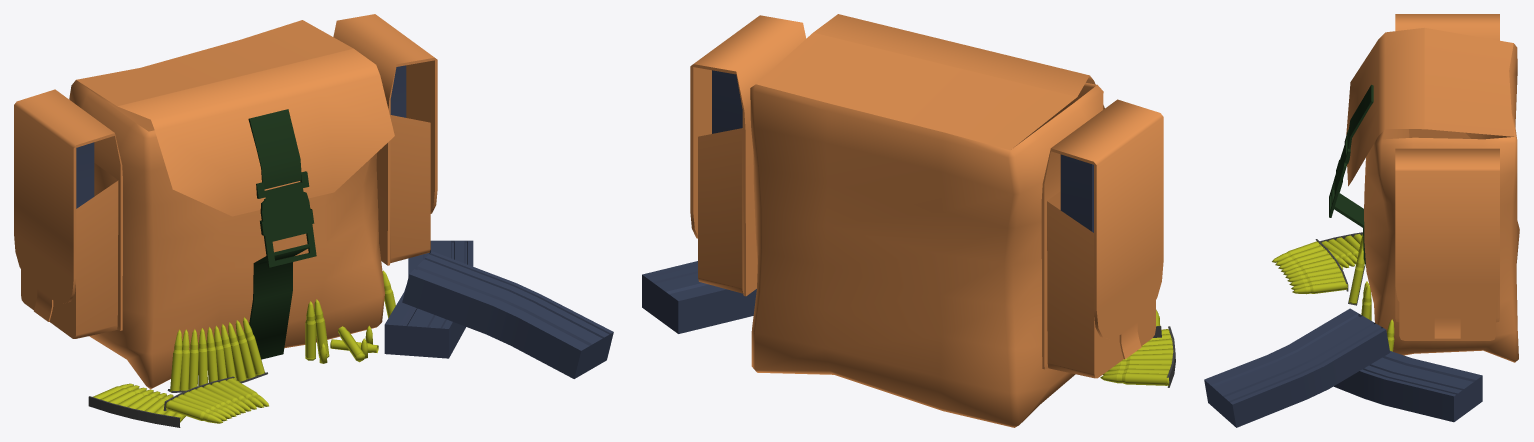
File: Ammo_pouch.FBX
3 renders of one model, left to right at view 1: azimuth 30°, elevation 25°; view 2: azimuth 150°, elevation 25°; view 3: azimuth 270°, elevation 25°, orthographic. The views are drawn at different scales.
Parts seen in each view (by area): view 1: central, ammo_pouch(empty)003, 30round_magazine002, bullet014, 30round_magazine001, Box002, Box003, bullet016, bullet015, Box004, Box005, bullet017; view 2: central, ammo_pouch(empty)003, 30round_magazine001, bullet015; view 3: central, ammo_pouch(empty)003, 30round_magazine002, 30round_magazine001, bullet016, bullet015, Box002, Box003, bullet014, Box004.
Boxes of the visible parts, x1,y1,x2,y2 form: central: (69,20,394,389); ammo_pouch(empty)003: (14,14,437,338); 30round_magazine002: (402,251,613,378); bullet014: (167,317,267,392); 30round_magazine001: (384,240,473,358); Box002: (249,244,308,359); Box003: (248,109,301,189); bullet016: (163,376,268,423); bullet015: (88,383,185,427); Box004: (256,171,314,235); Box005: (260,191,316,267); bullet017: (305,301,315,360); central: (750,14,1104,427); ammo_pouch(empty)003: (690,15,1163,378); 30round_magazine001: (642,261,756,333); bullet015: (1100,326,1175,387); central: (1346,27,1519,362); ammo_pouch(empty)003: (1395,14,1499,340); 30round_magazine002: (1204,308,1390,427); 30round_magazine001: (1333,351,1482,422); bullet016: (1272,239,1348,294); bullet015: (1320,232,1362,269); Box002: (1331,189,1365,266); Box003: (1347,84,1373,150); bullet014: (1348,236,1364,305); Box004: (1336,130,1350,192).
Bounding box in the file's own units: 63.83 × 44.1 × 36.44.
